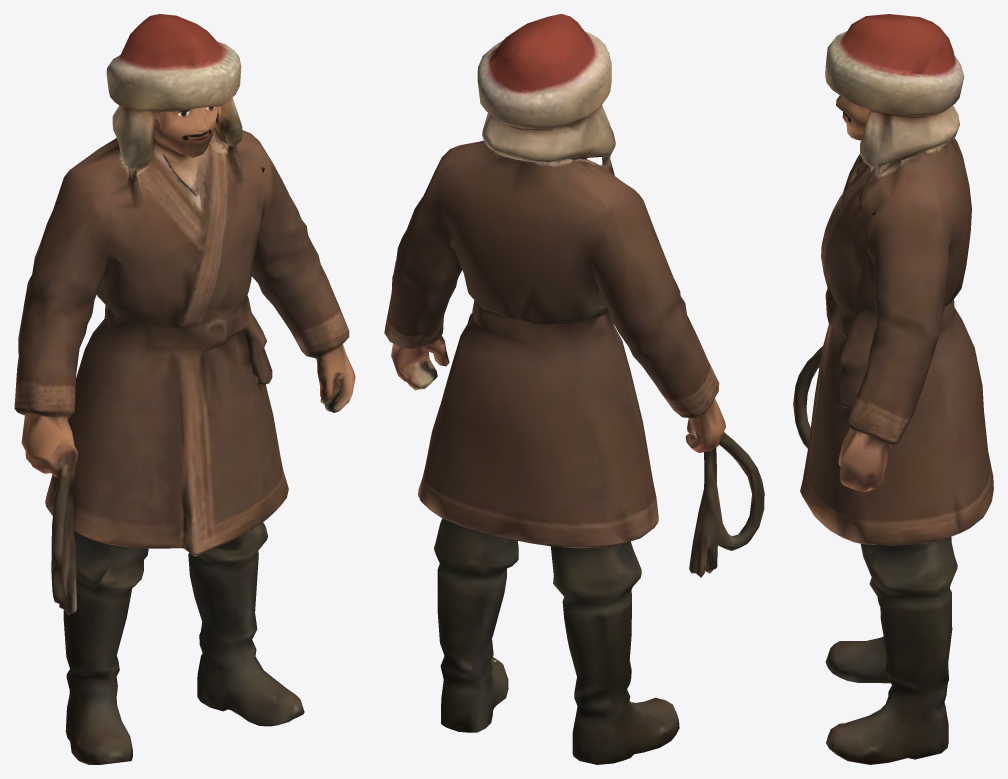
Rendered from herder-dauren.gen.glb.
The picture shows the model from 3 angles, left to right: view 1: azimuth 30°, elevation 25°; view 2: azimuth 150°, elevation 25°; view 3: azimuth 270°, elevation 25°; orthographic projection.
Parts seen in each view (by area): view 1: herder-dauren.raw; view 2: herder-dauren.raw; view 3: herder-dauren.raw.
Part boxes in pixels (left/top/right/bottom): herder-dauren.raw: left=14, top=14, right=355, bottom=764; herder-dauren.raw: left=384, top=14, right=764, bottom=764; herder-dauren.raw: left=793, top=14, right=993, bottom=764.
Bounding box in the file's own units: 0.9166 × 1.85 × 0.4826.
Materials: 1 (1 with a texture image).
